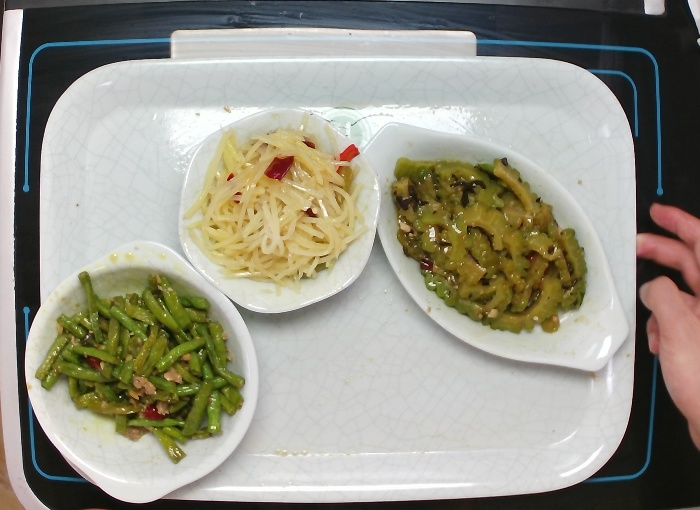JYsf-Shuang_Er_Wan: (19, 238, 263, 505)
JYsf-Yu_Pan: (353, 118, 632, 376)
WCQzf-Hua_Duo_Wan: (170, 103, 383, 316)
